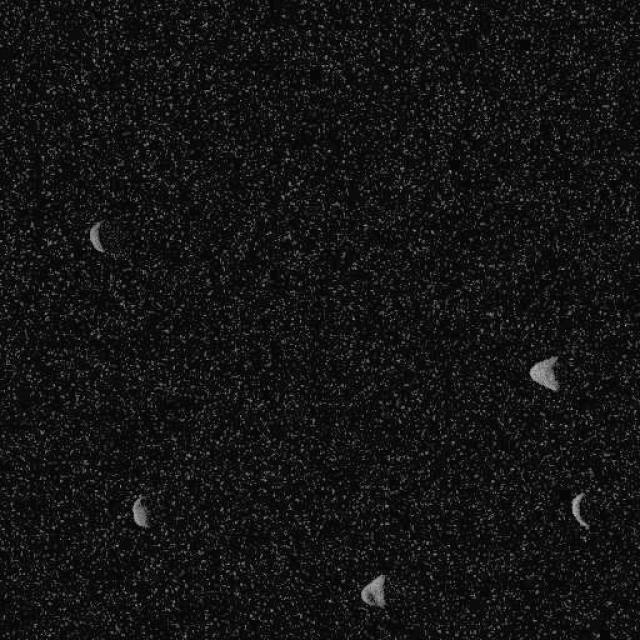D2: (528, 354, 560, 391), (359, 574, 386, 608), (569, 490, 590, 530), (130, 495, 151, 529), (87, 220, 105, 254)
